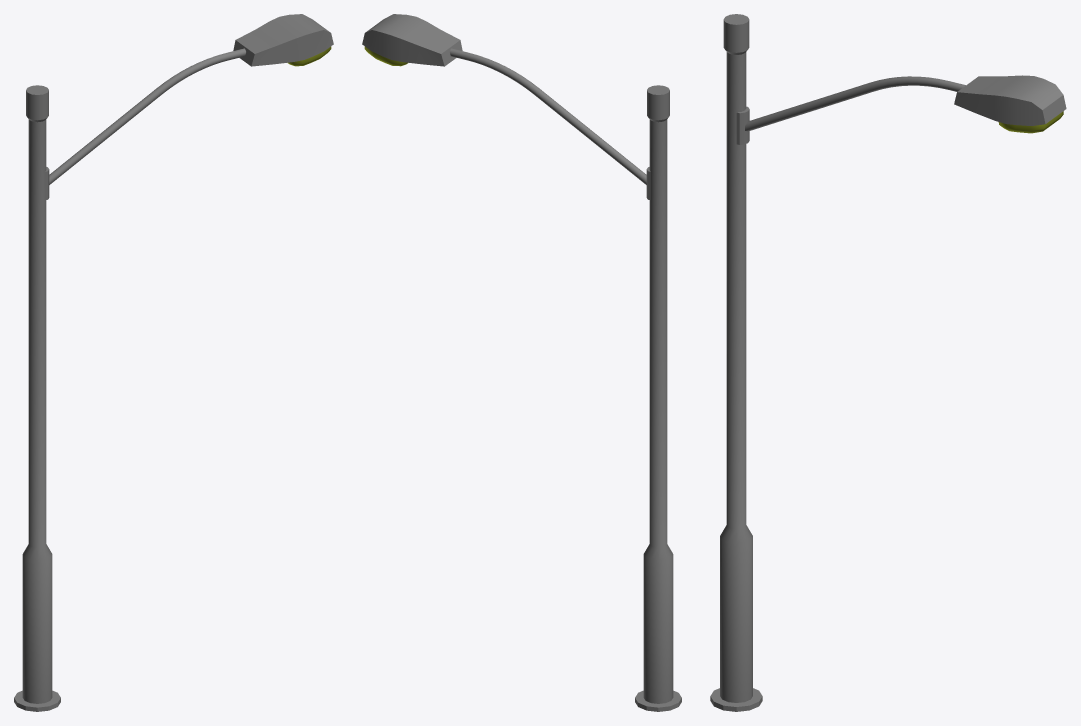
The model's file is SM_streetlamp.fbx.
The picture shows the model from 3 angles, left to right: view 1: azimuth 30°, elevation 25°; view 2: azimuth 150°, elevation 25°; view 3: azimuth 330°, elevation 25°; orthographic projection. The views are drawn at different scales.
Parts seen in each view (by area): view 1: Cylinder004; view 2: Cylinder004; view 3: Cylinder004.
Boxes of the visible parts, x1=… form: Cylinder004: x1=14, y1=14, x2=333, y2=711; Cylinder004: x1=362, y1=14, x2=681, y2=711; Cylinder004: x1=710, y1=14, x2=1066, y2=711.
Size of the model in its own units: 94.11 by 180 by 13.47.
